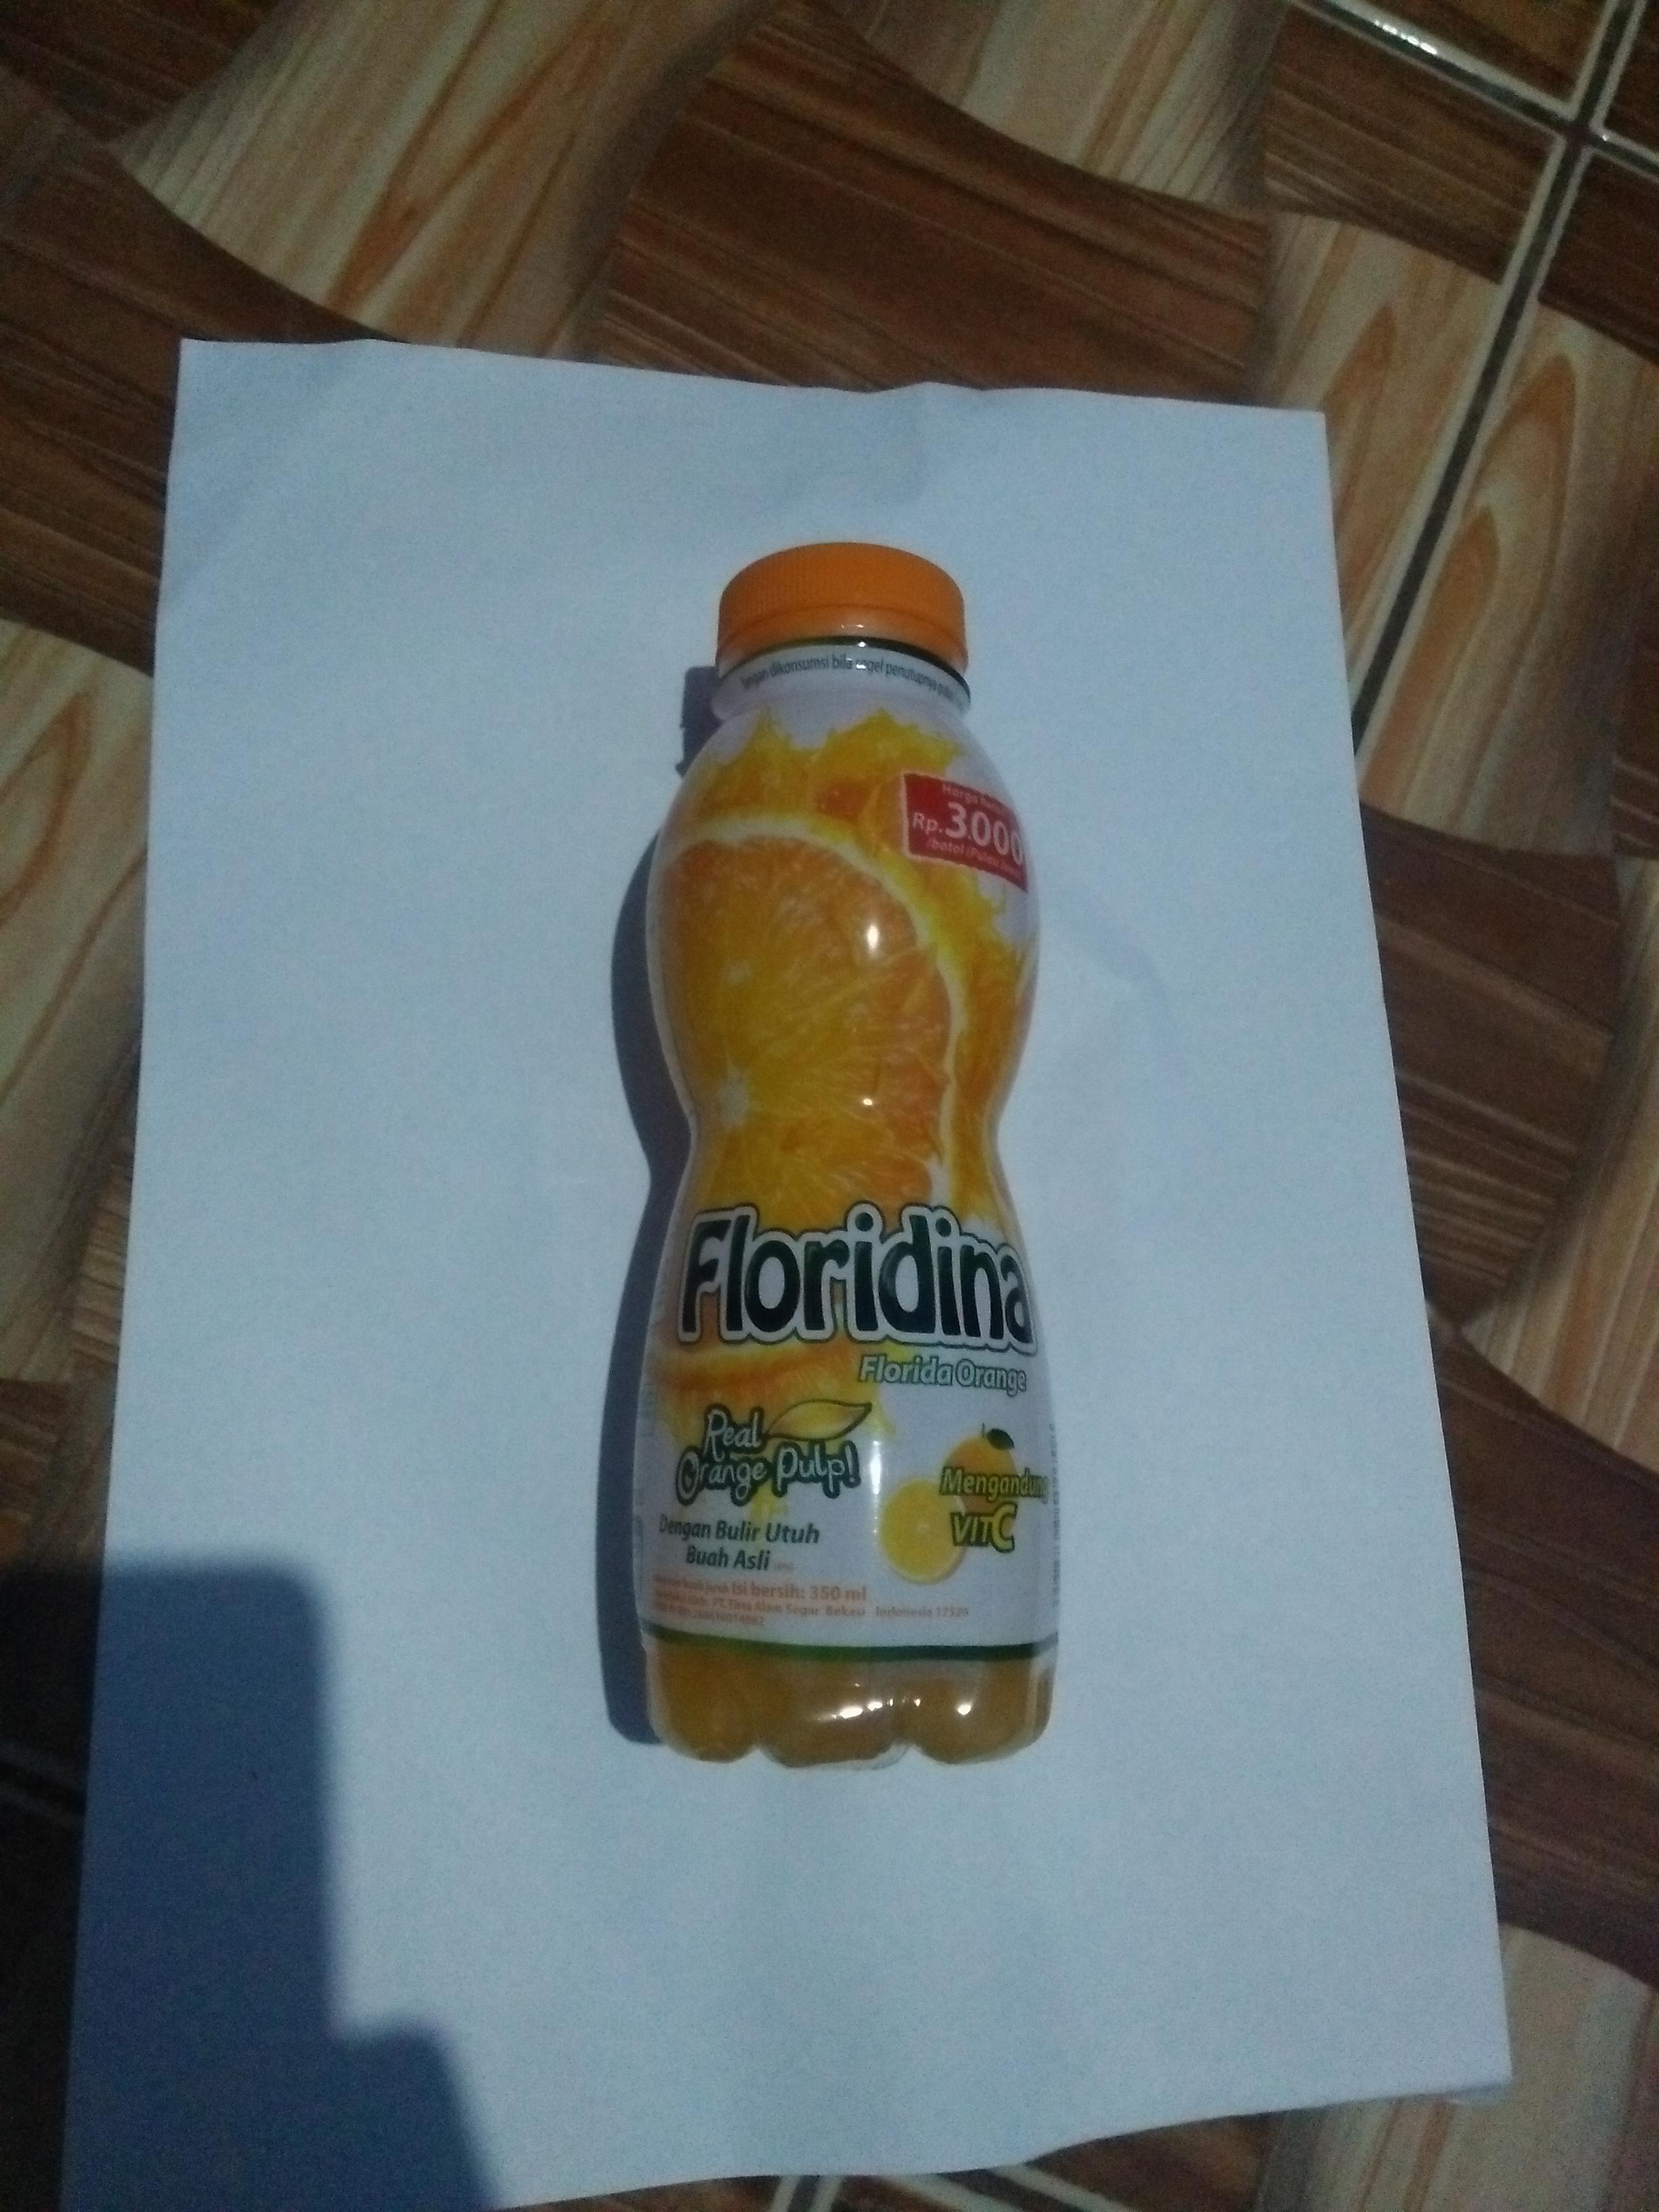Floridina: (586, 528, 1066, 1794)
